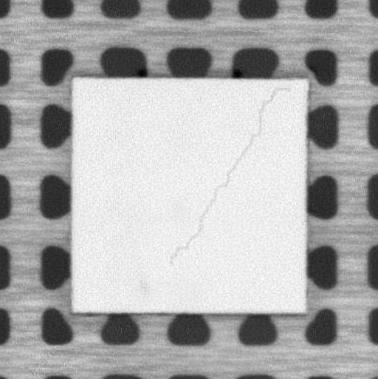DIE_CRACK: (172, 84, 287, 269)
